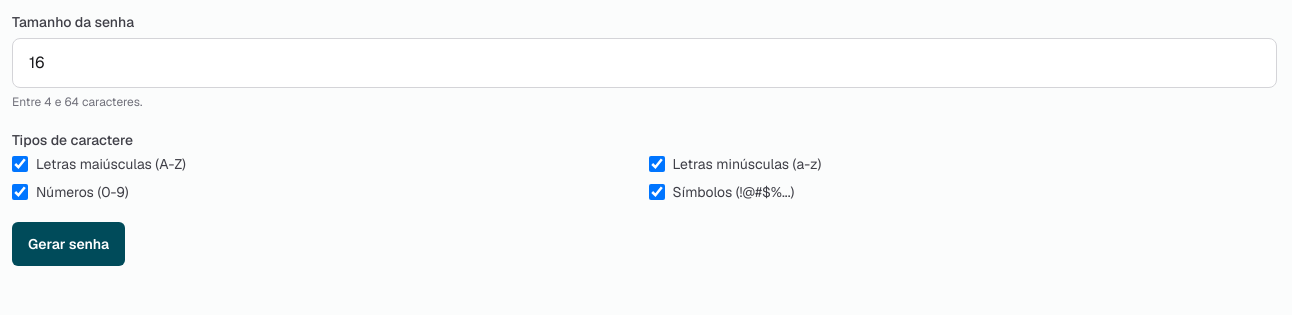
PasswordGeneratorTool › mostra erro quando nenhum tipo de caractere é selecionado
Click the checkbox labelled "Letras maiúsculas (A-Z)".
click(20, 164)  # box [12, 156, 28, 172]
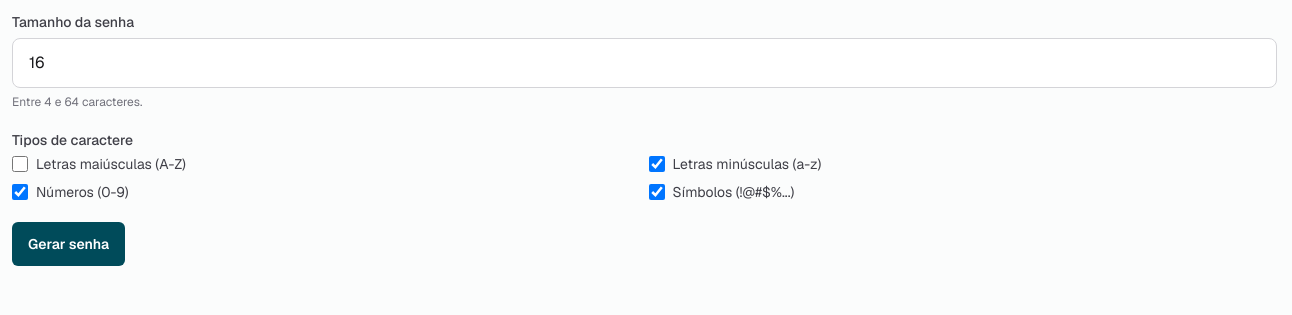
Click the checkbox labelled "Letras minúsculas (a-z)".
click(656, 164)  # box [648, 156, 664, 172]
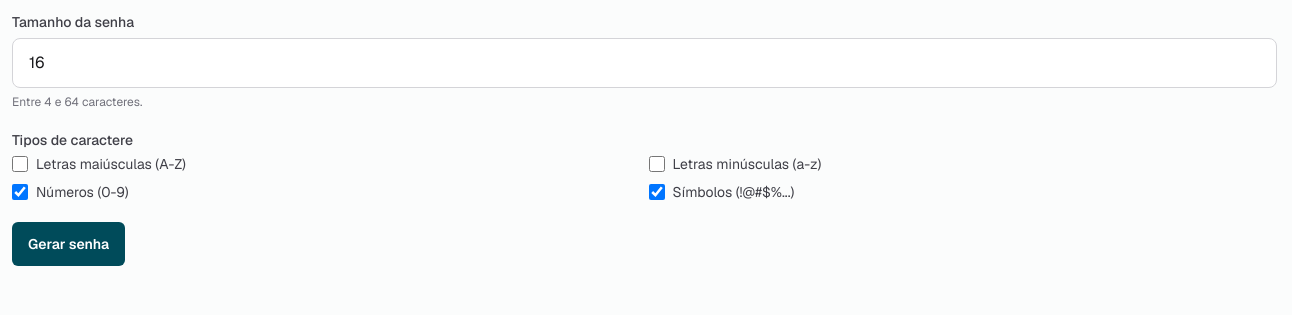
Click the checkbox labelled "Números (0-9)".
click(20, 192)  # box [12, 184, 28, 200]
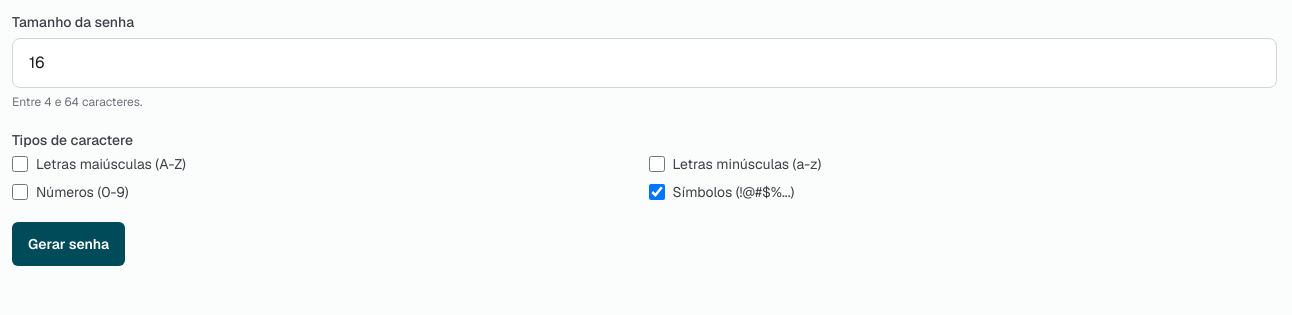
Click the checkbox labelled "Símbolos (!@#$%...)".
click(656, 192)  # box [648, 184, 664, 200]
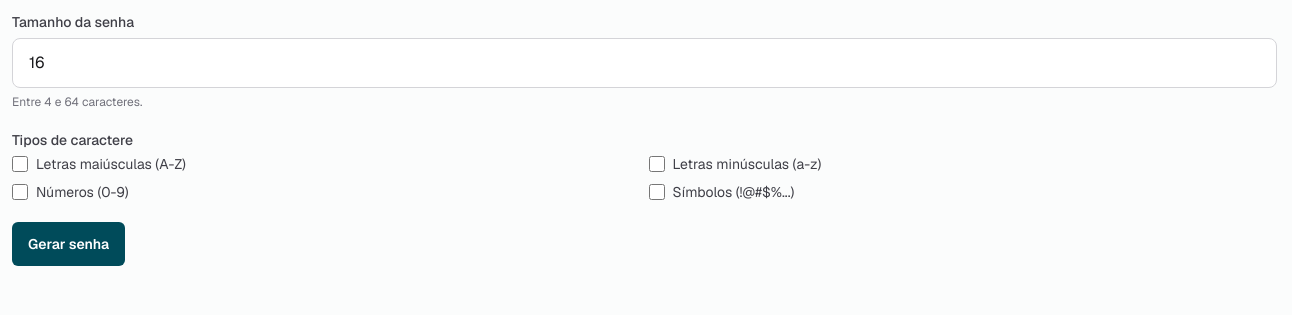
Click the button "Gerar senha".
click(69, 244)  # box [12, 222, 125, 266]
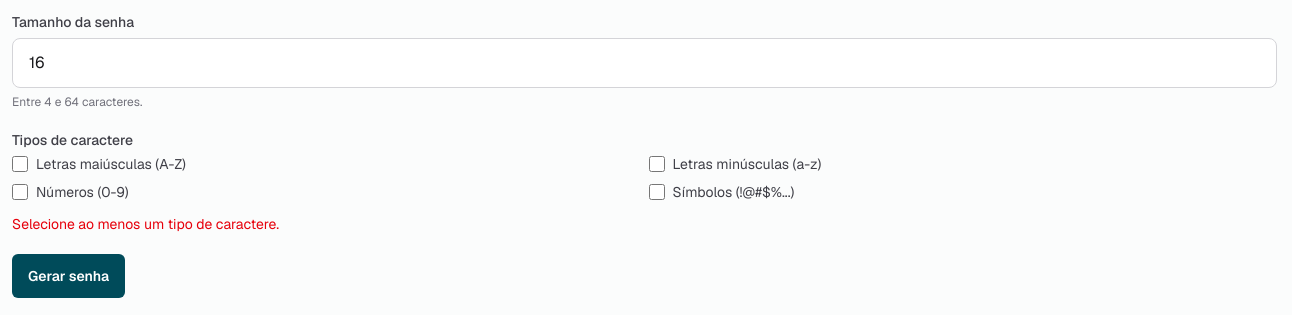
expect the text "Selecione ao menos um tipo de caractere." is shown: met, box [12, 215, 279, 233]
